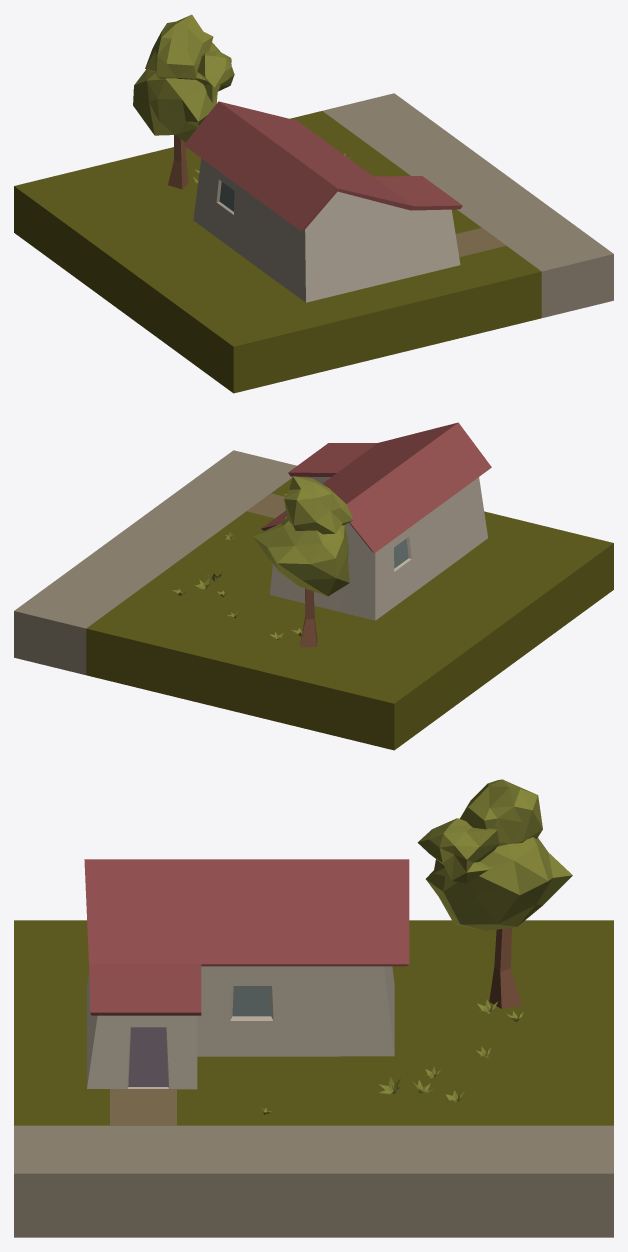
File: Casa 01.fbx
The picture shows the model from 3 angles, top to bottom: view 1: azimuth 30°, elevation 25°; view 2: azimuth 150°, elevation 25°; view 3: azimuth 270°, elevation 25°; orthographic projection. The views are drawn at different scales.
Parts seen in each view (by area): view 1: Casa 01; view 2: Casa 01; view 3: Casa 01.
Part boxes in pixels (bbox=[...]): Casa 01: bbox=[14, 14, 613, 393]; Casa 01: bbox=[14, 422, 613, 750]; Casa 01: bbox=[14, 779, 613, 1237].
Size of the model in its own units: 200 by 107 by 200.
